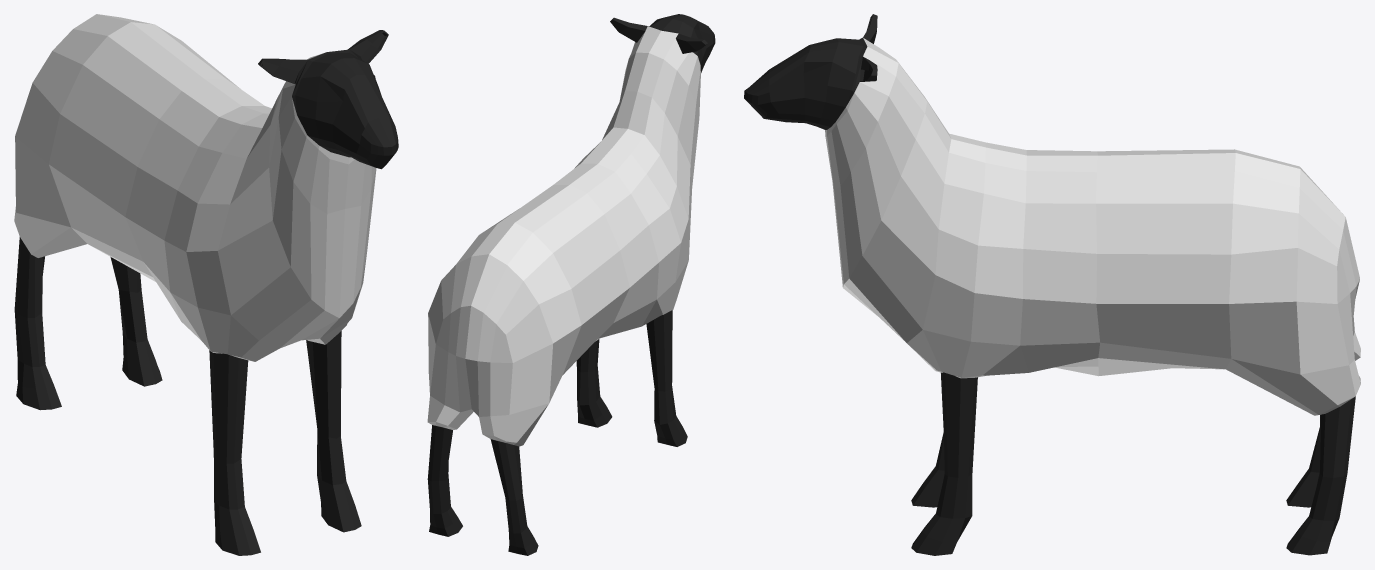
File: 10sheepFinal.fbx
3 renders of one model, left to right at view 1: azimuth 30°, elevation 25°; view 2: azimuth 150°, elevation 25°; view 3: azimuth 270°, elevation 25°, orthographic. The views are drawn at different scales.
Parts seen in each view (by area): view 1: 10sheepFinal; view 2: 10sheepFinal; view 3: 10sheepFinal.
Part boxes in pixels (x1,y1,x2,y2): 10sheepFinal: (14,14,398,555); 10sheepFinal: (427,14,715,555); 10sheepFinal: (744,14,1360,555).
Size of the model in its own units: 43.07 by 123 by 143.
